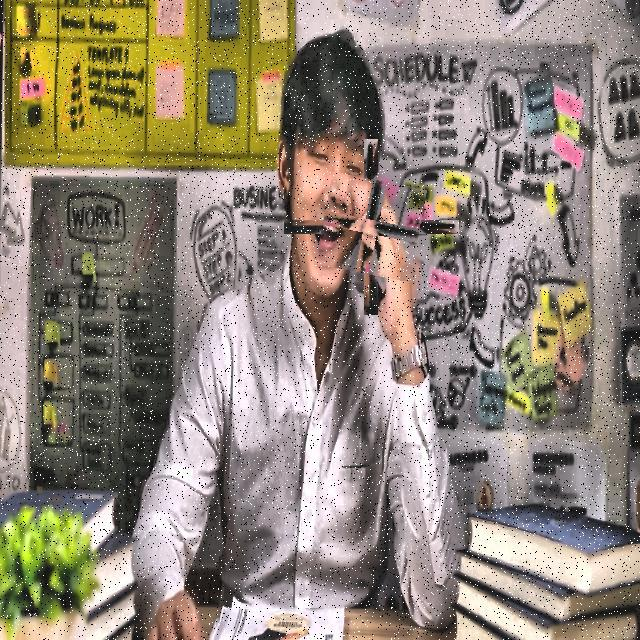Phone: (319, 175, 423, 278)
